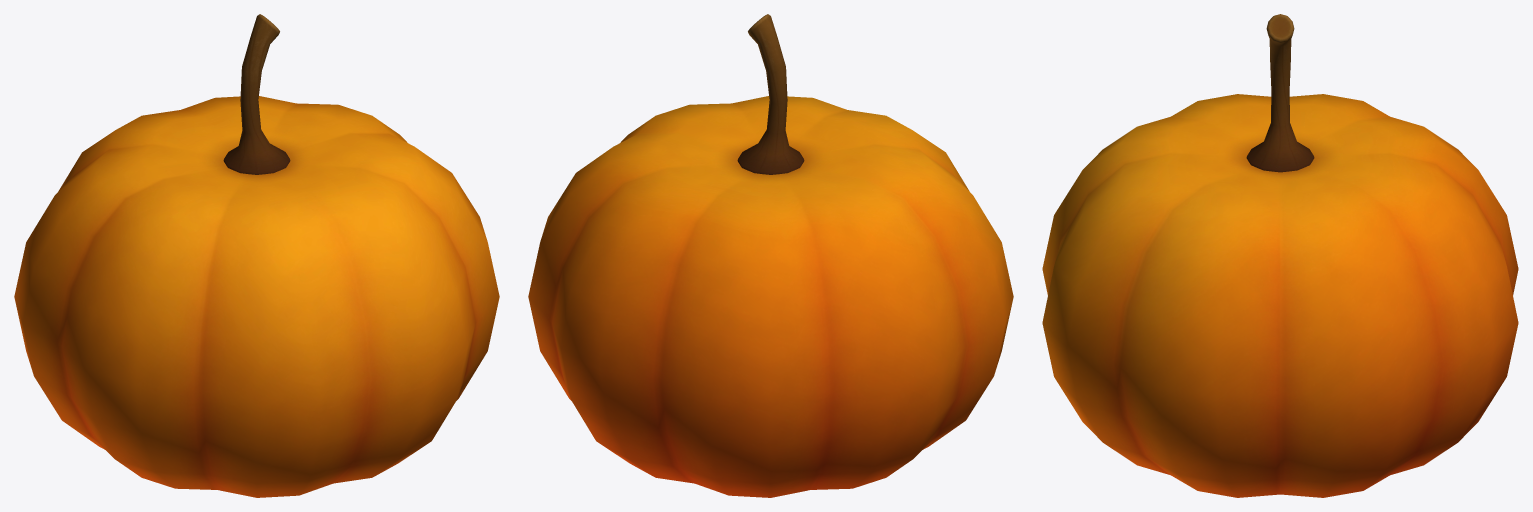
Rendered from Pumpkin.fbx.
3 views of the same model, side by side, from view 1: azimuth 30°, elevation 25°; view 2: azimuth 150°, elevation 25°; view 3: azimuth 270°, elevation 25° (orthographic).
Visible parts, largest first — view 1: Pumpkin; view 2: Pumpkin; view 3: Pumpkin.
Boxes of the visible parts, x1=… form: Pumpkin: x1=14, y1=14, x2=499, y2=497; Pumpkin: x1=528, y1=14, x2=1013, y2=497; Pumpkin: x1=1042, y1=14, x2=1518, y2=497.
Size of the model in its own units: 45.9 by 45.64 by 45.9.
